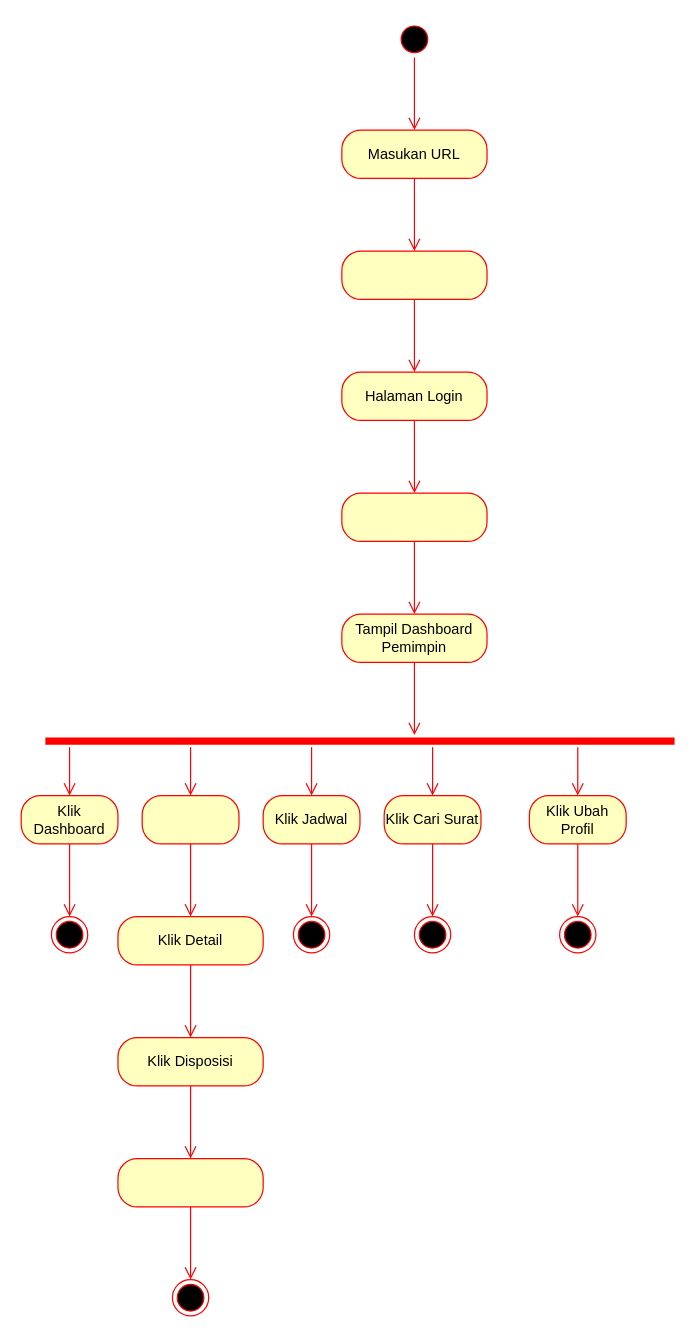
This 699x1337 diagram has some shape labels left out. The shapes that lost their labels are listed below. From the top down, each one's centre as x and y in pixels, then its label:
At point (414, 274): "Klik Button Login".
At point (414, 516): "Input Email dan Password".
At point (190, 819): "Klik Surat Baru".
At point (190, 1182): "Kirim Disposisi".
